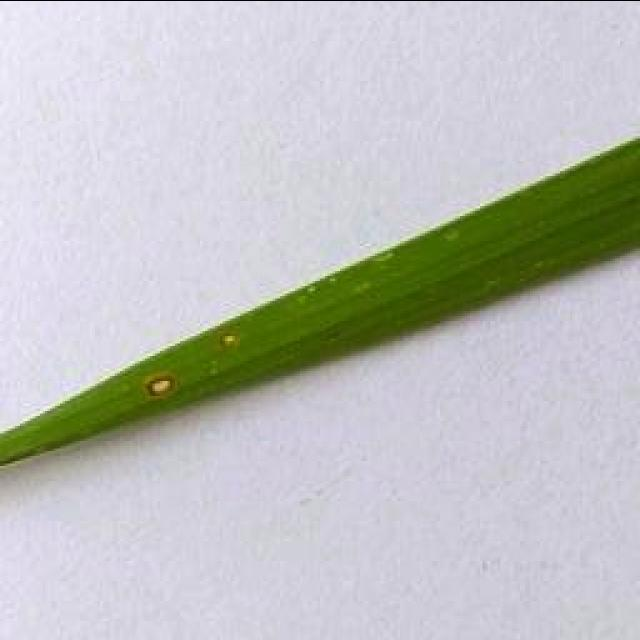Unhealthy: (143, 371, 178, 400), (216, 330, 240, 347)
